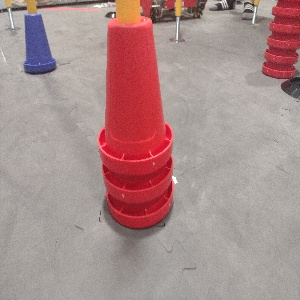Blue_1: (18, 11, 58, 76)
Red_3: (95, 13, 174, 229)
Red_5: (260, 0, 299, 79)
